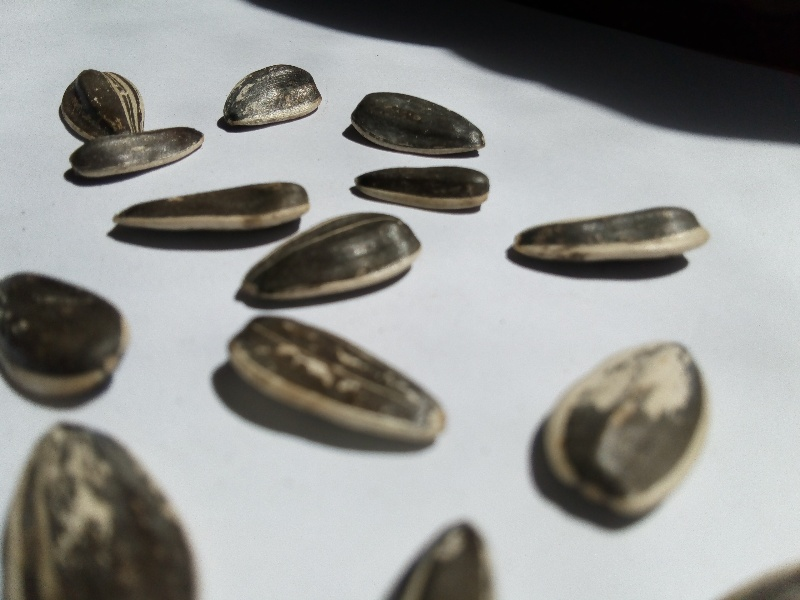girasol: (527, 326, 723, 532), (199, 312, 461, 457), (506, 178, 717, 286), (212, 54, 325, 139), (346, 162, 504, 212)
